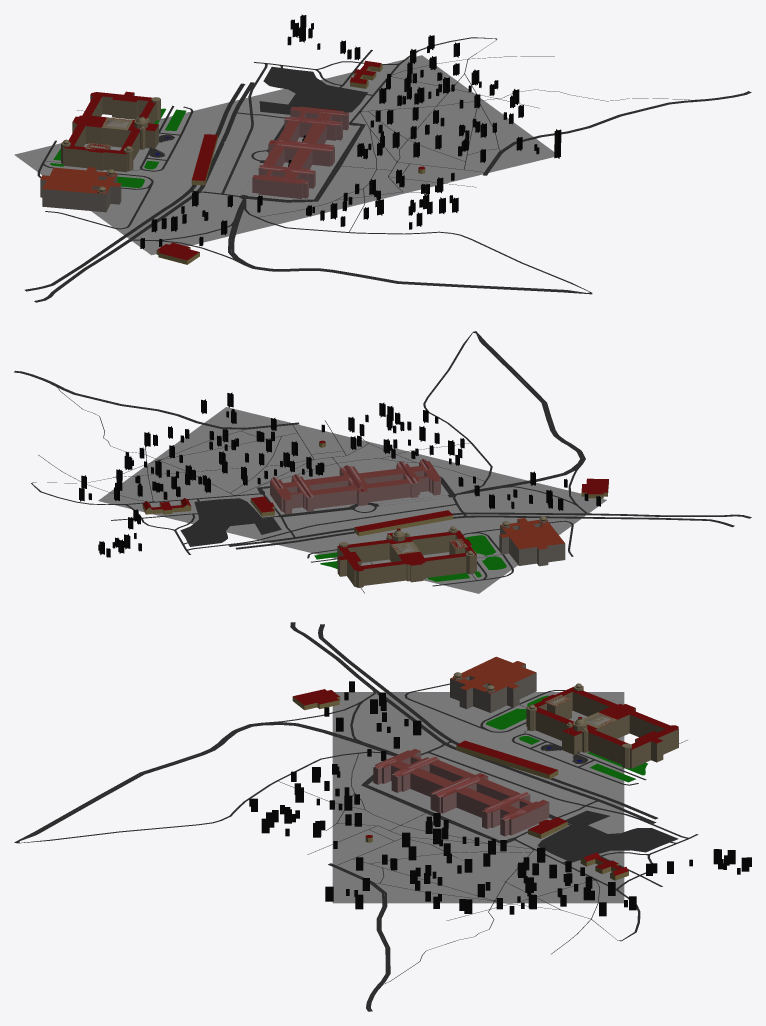
Rendered from Bangalore.obj.
3 views of the same model, one above another, from view 1: azimuth 30°, elevation 25°; view 2: azimuth 150°, elevation 25°; view 3: azimuth 270°, elevation 25° (orthographic). The views are drawn at different scales.
Visible parts, largest first — view 1: SurfaceArea477, SurfaceArea479, Building Vidhana Soudha, Building Karnataka High Court, SurfaceArea481, Forest455, SurfaceArea480, Building Vikas Soudha, SurfaceParking High Court Public Parking Area, SurfaceArea478, Forest459, SurfaceArea482 (+6 smaller); view 2: SurfaceArea477, SurfaceArea479, Building Vidhana Soudha, Building Karnataka High Court, SurfaceArea481, Forest455, SurfaceArea480, SurfaceParking High Court Public Parking Area, Building Vikas Soudha, Forest459, SurfaceArea482, SurfaceArea478 (+6 smaller); view 3: SurfaceArea479, SurfaceArea477, Building Vidhana Soudha, Building Karnataka High Court, SurfaceArea481, Forest455, SurfaceArea480, Building Vikas Soudha, SurfaceParking High Court Public Parking Area, SurfaceArea478, Forest459, SurfaceArea482 (+6 smaller).
Part boxes in pixels (<box>): SurfaceArea477: <box>91,143,320,255</box>; SurfaceArea479: <box>224,100,490,212</box>; Building Vidhana Soudha: <box>61,91,160,172</box>; Building Karnataka High Court: <box>252,106,348,198</box>; SurfaceArea481: <box>393,84,554,172</box>; Forest455: <box>357,35,523,162</box>; SurfaceArea480: <box>185,72,392,141</box>; Building Vikas Soudha: <box>40,167,121,212</box>; SurfaceParking High Court Public Parking Area: <box>259,66,367,114</box>; SurfaceArea478: <box>14,114,220,175</box>; Forest459: <box>257,169,458,229</box>; SurfaceArea482: <box>365,55,460,100</box>; SurfaceArea477: <box>360,461,606,566</box>; SurfaceArea479: <box>198,422,447,527</box>; Building Vidhana Soudha: <box>337,526,476,587</box>; Building Karnataka High Court: <box>270,459,440,514</box>; SurfaceArea481: <box>135,407,289,489</box>; Forest455: <box>79,418,324,501</box>; SurfaceArea480: <box>162,489,353,554</box>; SurfaceParking High Court Public Parking Area: <box>180,498,281,546</box>; Building Vikas Soudha: <box>499,516,565,566</box>; Forest459: <box>348,402,475,486</box>; SurfaceArea482: <box>98,474,197,516</box>; SurfaceArea478: <box>321,530,515,593</box>; SurfaceArea479: <box>332,780,540,868</box>; SurfaceArea477: <box>332,692,540,780</box>; Building Vidhana Soudha: <box>526,683,678,768</box>; Building Karnataka High Court: <box>373,749,549,836</box>; SurfaceArea481: <box>332,868,540,903</box>; Forest455: <box>356,813,636,916</box>; SurfaceArea480: <box>541,780,624,868</box>; Building Vikas Soudha: <box>450,656,536,712</box>; SurfaceParking High Court Public Parking Area: <box>537,810,678,862</box>; SurfaceArea478: <box>541,692,624,780</box>; Forest459: <box>249,749,386,837</box>; SurfaceArea482: <box>541,868,624,903</box>.
Size of the model in its own units: 1328 by 47 by 1063.
